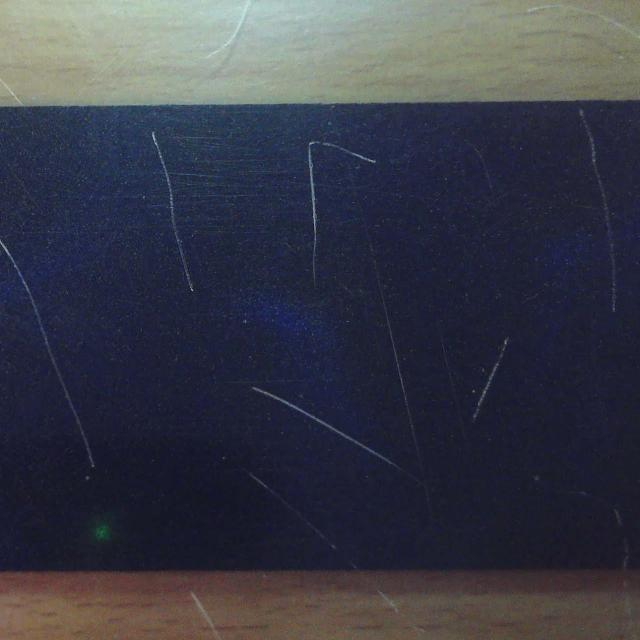defect: (0, 238, 96, 482), (250, 386, 412, 479), (233, 464, 359, 570), (525, 466, 639, 567), (570, 103, 624, 316), (308, 140, 376, 288), (143, 124, 201, 296), (380, 293, 426, 451), (464, 337, 516, 424)
